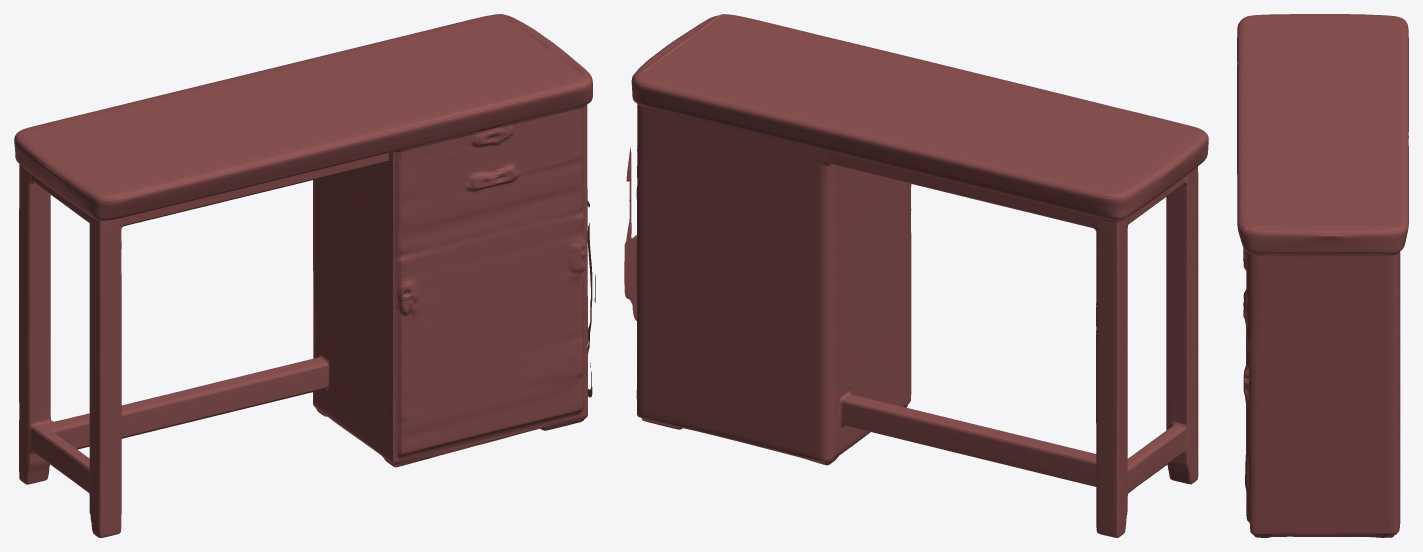
3 views of the same model, side by side, from view 1: azimuth 30°, elevation 25°; view 2: azimuth 150°, elevation 25°; view 3: azimuth 270°, elevation 25° (orthographic). The views are drawn at different scales.
Parts seen in each view (by area): view 1: world; view 2: world; view 3: world.
Boxes of the visible parts, bbox=[...] form: world: bbox=[14, 14, 595, 537]; world: bbox=[624, 14, 1208, 537]; world: bbox=[1237, 14, 1408, 537].
Bounding box in the file's own units: 1.97 × 1.3 × 0.6461.
